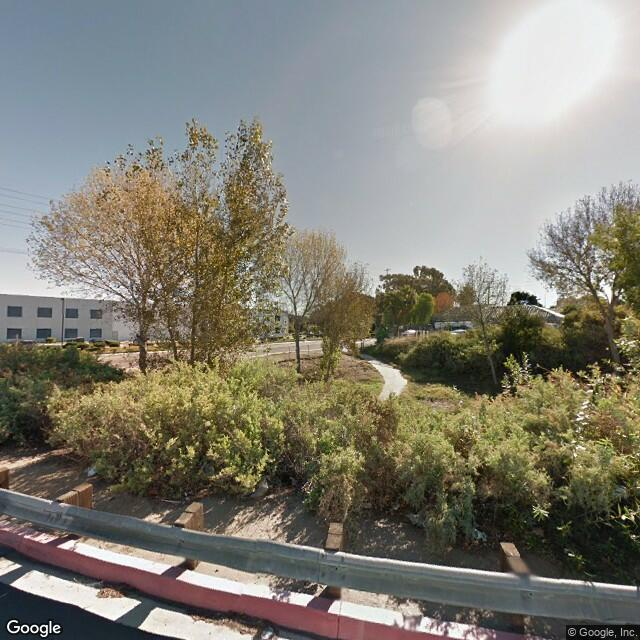litter: (468, 526, 493, 539), (255, 627, 279, 640), (83, 461, 102, 477), (409, 511, 423, 526)
